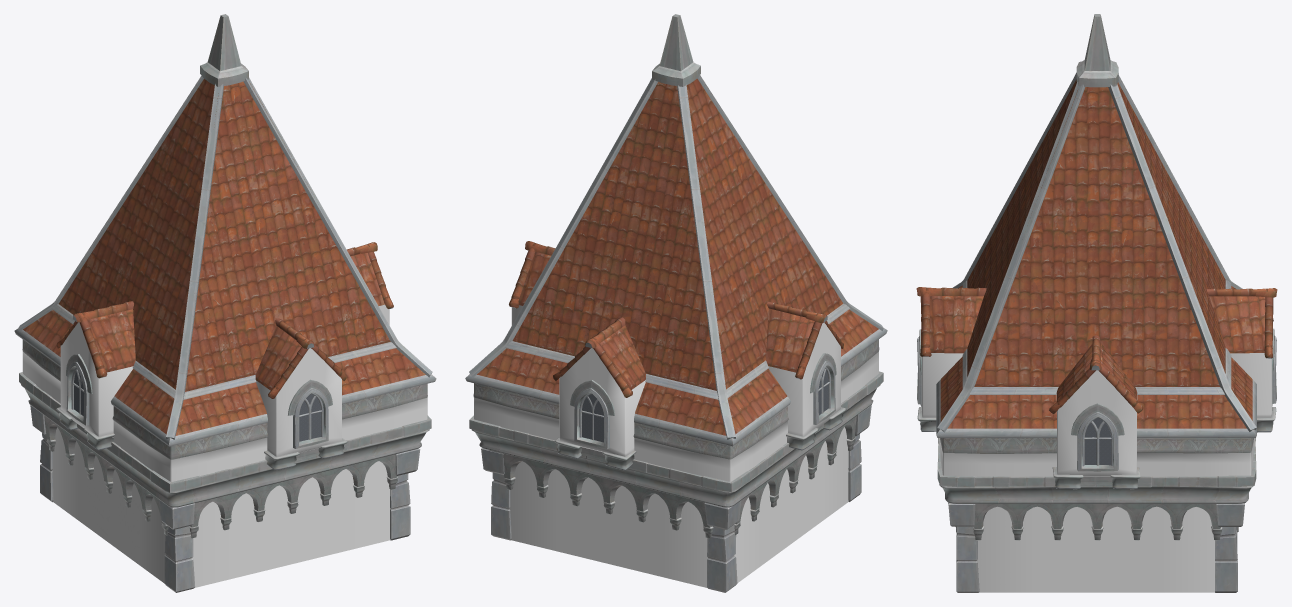
File: SM_TowerE_Top_02_Window.fbx
3 renders of one model, left to right at view 1: azimuth 30°, elevation 25°; view 2: azimuth 150°, elevation 25°; view 3: azimuth 270°, elevation 25°, orthographic. The views are drawn at different scales.
Parts seen in each view (by area): view 1: SM_TowerE_Top_02_Window_LOD0; view 2: SM_TowerE_Top_02_Window_LOD0; view 3: SM_TowerE_Top_02_Window_LOD0.
Part boxes in pixels (<box>): SM_TowerE_Top_02_Window_LOD0: <box>14,14,436,592</box>; SM_TowerE_Top_02_Window_LOD0: <box>465,14,887,592</box>; SM_TowerE_Top_02_Window_LOD0: <box>916,14,1277,592</box>.
Size of what is drawn, in the model's own units: 13.08 by 20.74 by 13.08.
